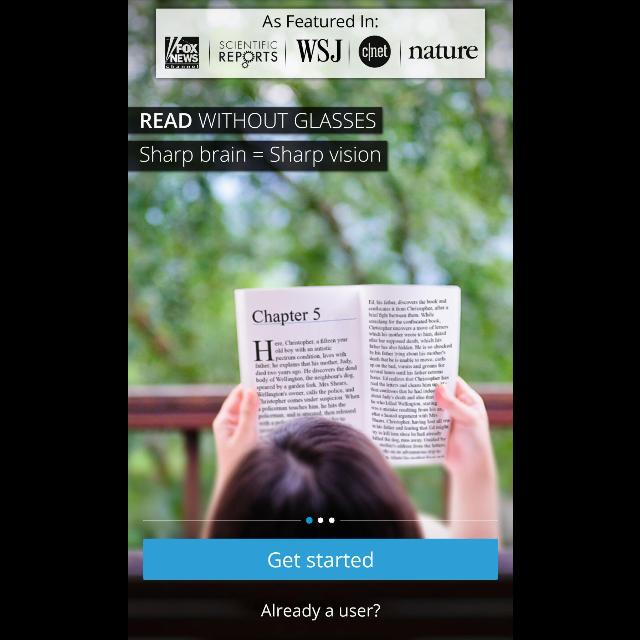backgroundimage: (128, 1, 512, 640)
image: (154, 8, 486, 78)
pageindicator: (304, 516, 334, 524)
text: (128, 142, 384, 170), (128, 108, 380, 132), (260, 603, 380, 621)
textbutton: (142, 538, 498, 580)
